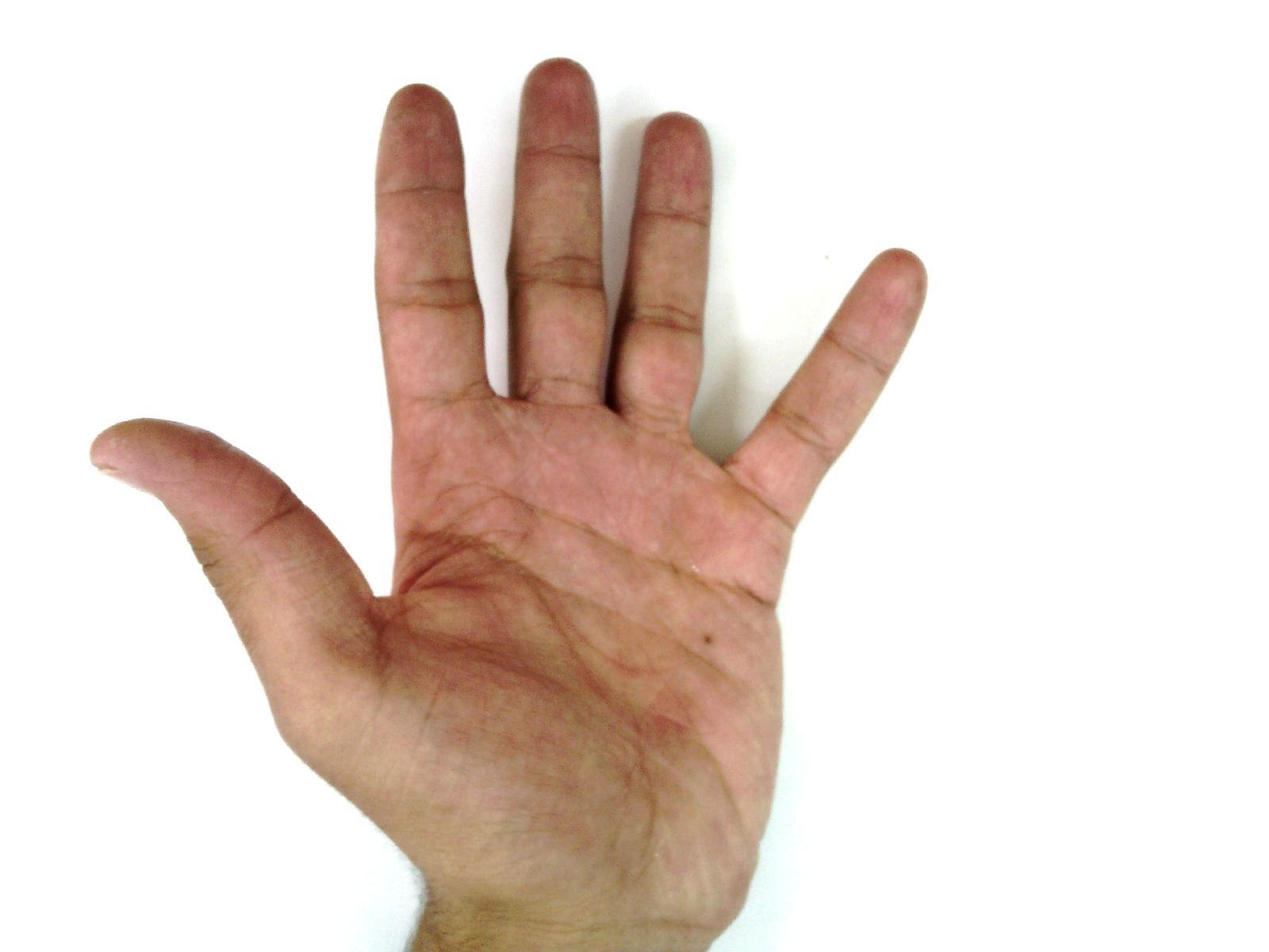open_palm: (89, 56, 931, 950)
